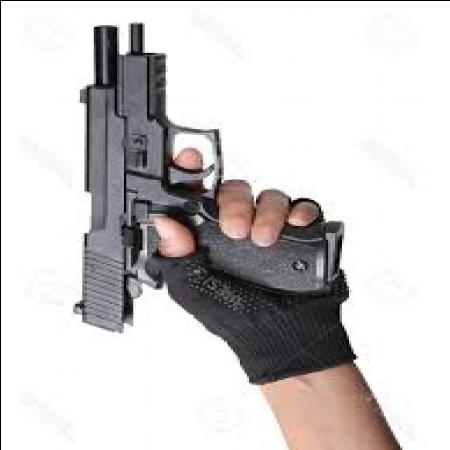Pistol: (72, 22, 346, 335)
